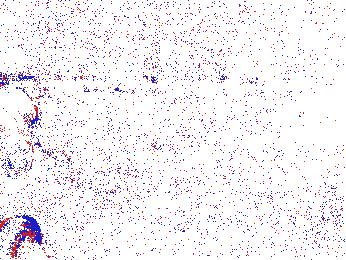flame jellyfish: (1, 83, 39, 179), (184, 195, 237, 248), (1, 214, 53, 260)
